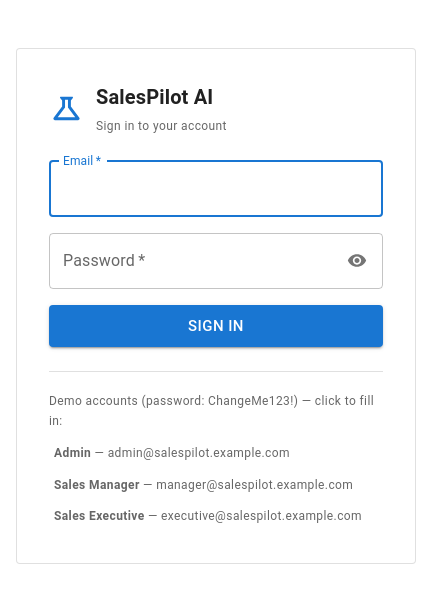
Test: Login page › shows an error message when login fails
The image size is (433, 613).
Type "nobody@example.com" into the field named "Email address" at coordinates (216, 189), box x1=49 y1=161 x2=383 y2=217
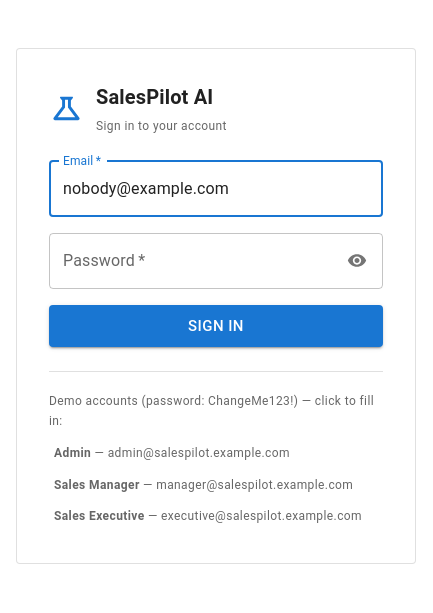
Type "wrong-password" into the password field labelled "Password" at coordinates (192, 261), box x1=49 y1=233 x2=334 y2=289
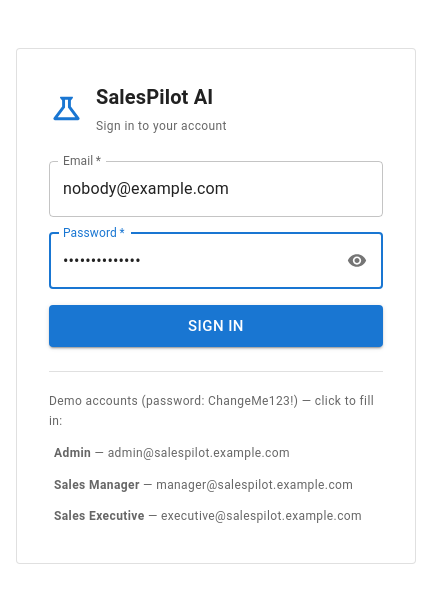
Click the button "Sign In" at coordinates (216, 326), box x1=49 y1=305 x2=383 y2=347
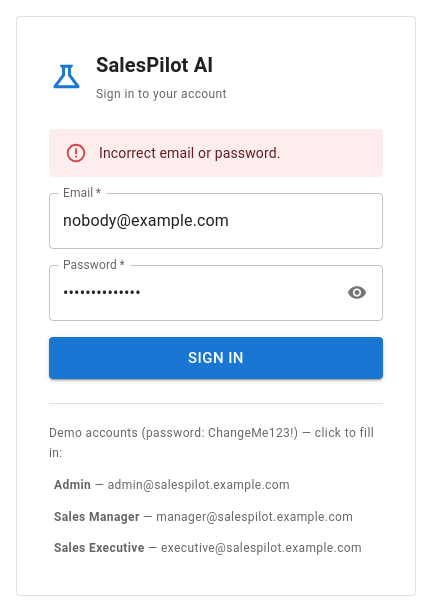
Check: the text "Incorrect email or password." is shown, box x1=99 y1=145 x2=281 y2=161
